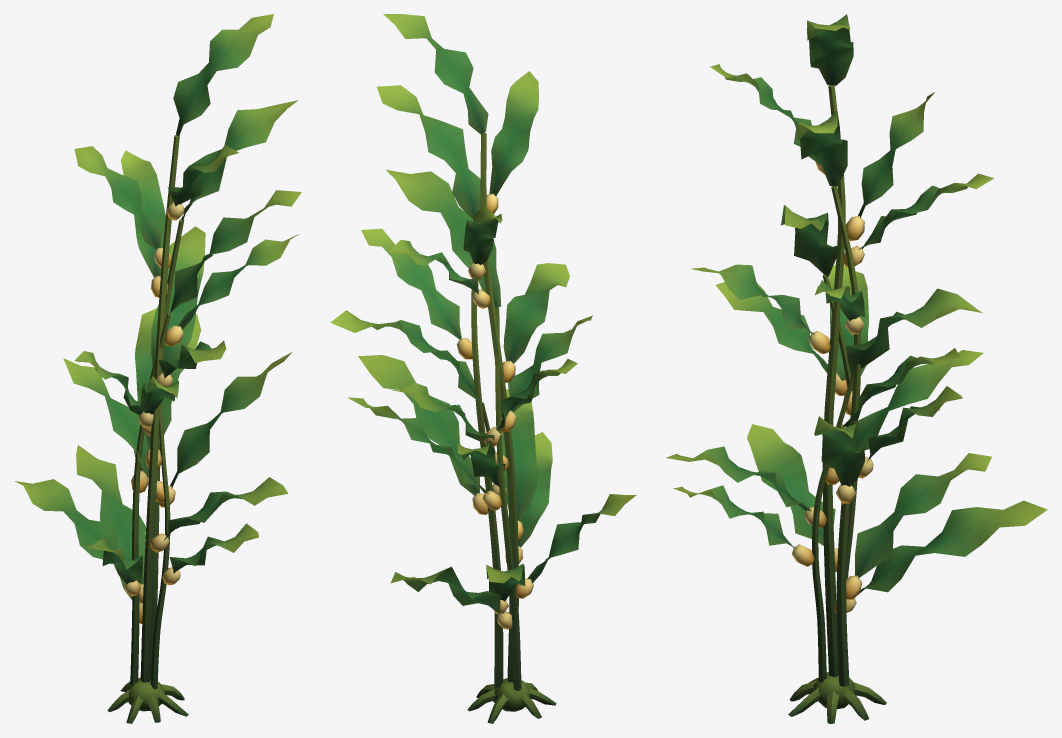
Rendered from kelp_tall.glb.
3 renders of one model, left to right at view 1: azimuth 30°, elevation 25°; view 2: azimuth 150°, elevation 25°; view 3: azimuth 270°, elevation 25°, orthographic. The views are drawn at different scales.
Parts seen in each view (by area): view 1: kelp_tall; view 2: kelp_tall; view 3: kelp_tall.
Boxes of the visible parts, box(x1,y1,x2,y2) form: kelp_tall: box(15, 14, 301, 723); kelp_tall: box(330, 14, 636, 723); kelp_tall: box(665, 14, 1047, 723).
Bounding box in the file's own units: 2.29 × 6 × 2.8.
